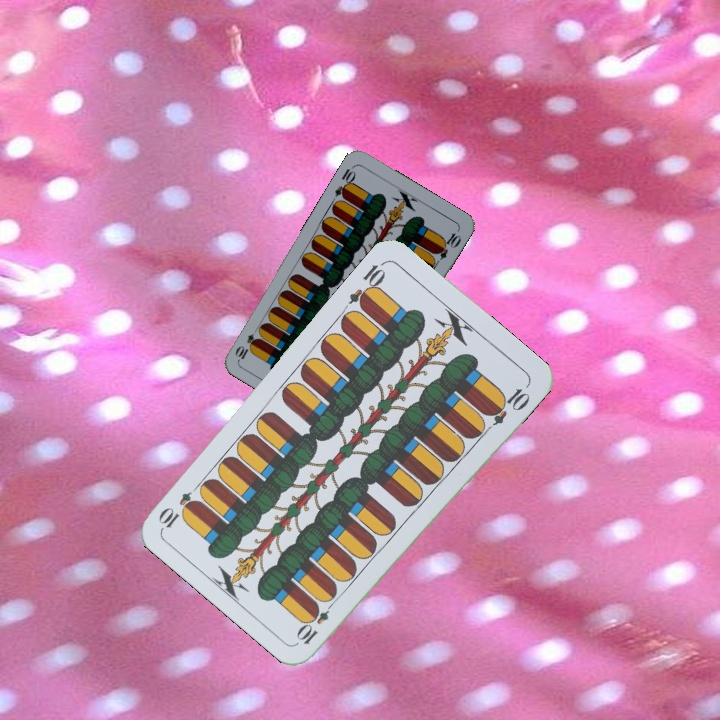E10: (345, 257, 389, 312), (294, 595, 338, 647), (330, 162, 359, 201)
